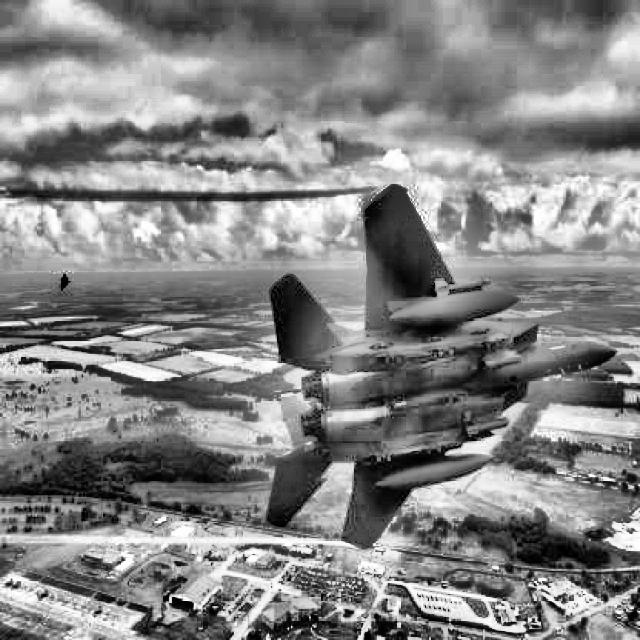F15: (264, 183, 618, 549), (57, 273, 72, 292), (39, 588, 50, 601), (94, 604, 103, 616), (3, 578, 14, 587), (11, 579, 20, 590)
